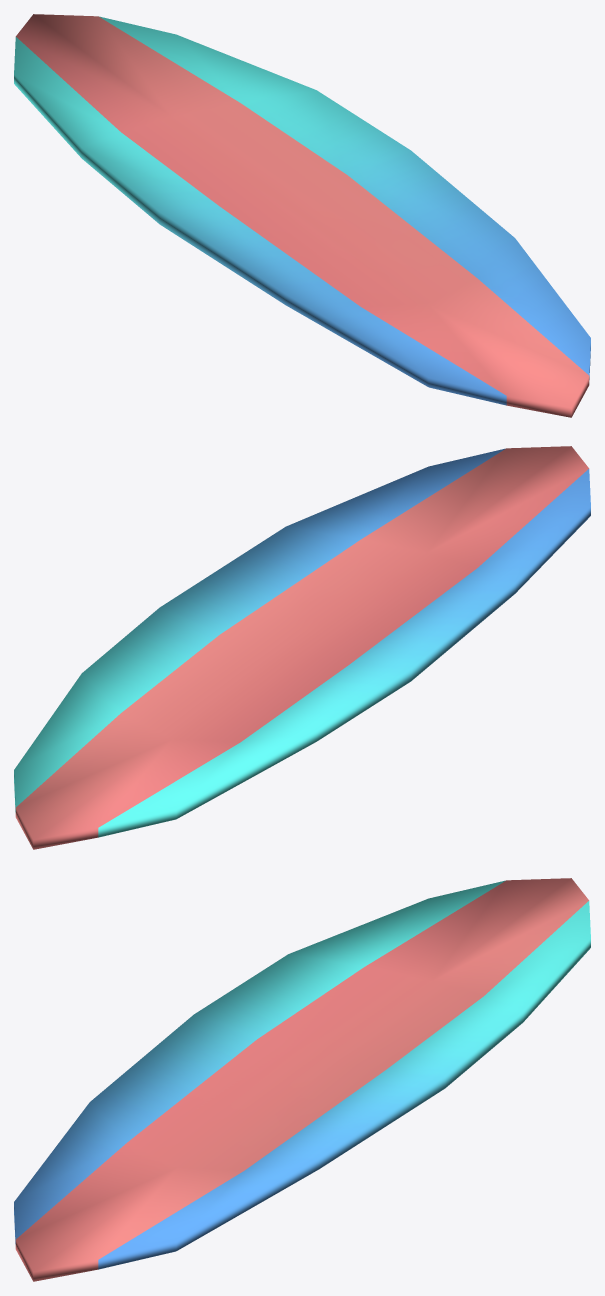
Rendered from Msh_Surf.fbx.
3 views of the same model, one above another, from view 1: azimuth 30°, elevation 25°; view 2: azimuth 150°, elevation 25°; view 3: azimuth 330°, elevation 25° (orthographic).
Parts seen in each view (by area): view 1: Msh_Surf; view 2: Msh_Surf; view 3: Msh_Surf.
Part boxes in pixels (left/top/right/bottom): Msh_Surf: left=14, top=14, right=590, bottom=417; Msh_Surf: left=14, top=446, right=590, bottom=849; Msh_Surf: left=14, top=878, right=590, bottom=1281.
Bounding box in the file's own units: 61.47 × 6.71 × 228.
